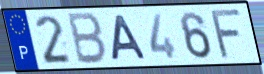2: (34, 14, 75, 66)
4: (147, 12, 178, 61)
6: (178, 10, 213, 61)
A: (110, 13, 150, 62)
B: (67, 11, 109, 66)
F: (210, 7, 245, 61)
